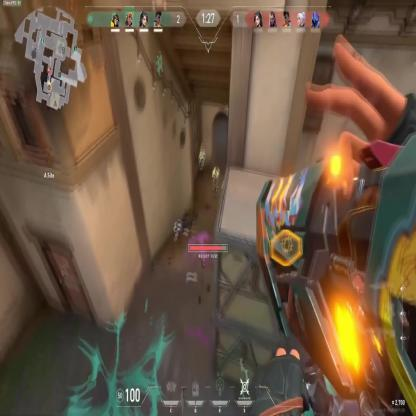enemy: (211, 165, 219, 198), (199, 145, 205, 170)
enemy_head: (200, 146, 204, 153), (214, 166, 217, 174)
